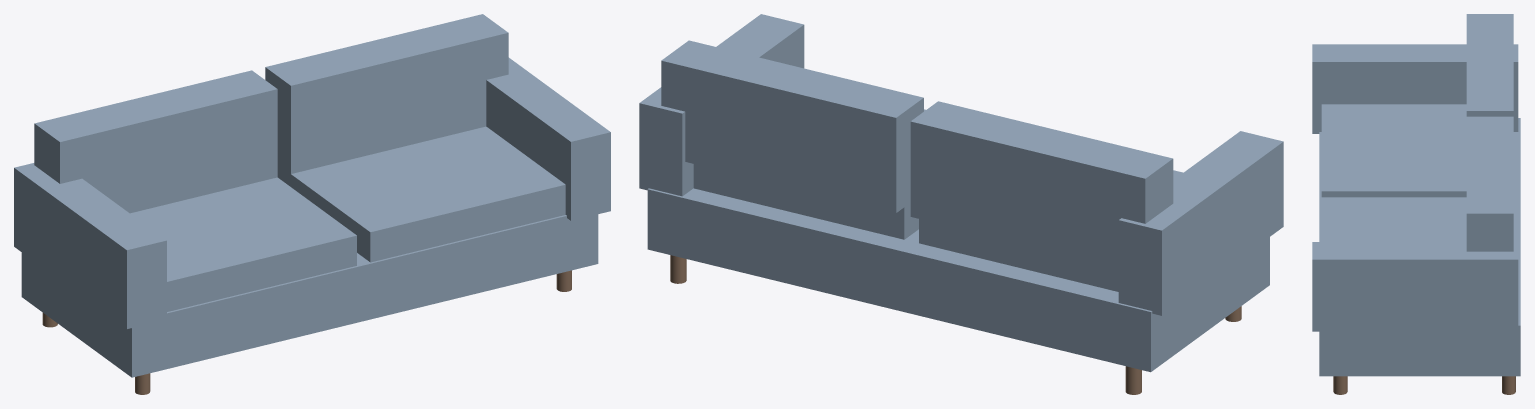
Rendered from SOFA001.glb.
The picture shows the model from 3 angles, left to right: view 1: azimuth 30°, elevation 25°; view 2: azimuth 150°, elevation 25°; view 3: azimuth 270°, elevation 25°; orthographic projection. The views are drawn at different scales.
Visible parts, largest first — view 1: FurnitureRoot; view 2: FurnitureRoot; view 3: FurnitureRoot.
Part boxes in pixels (x1,y1,x2,y2): FurnitureRoot: (14,14,610,394); FurnitureRoot: (639,14,1283,394); FurnitureRoot: (1312,14,1520,394).
Bounding box in the file's own units: 218 × 87 × 89.
